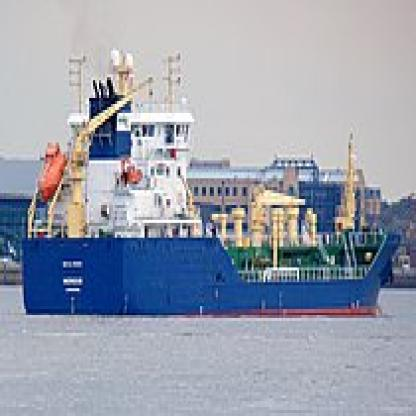Tanker: (16, 74, 404, 324)
